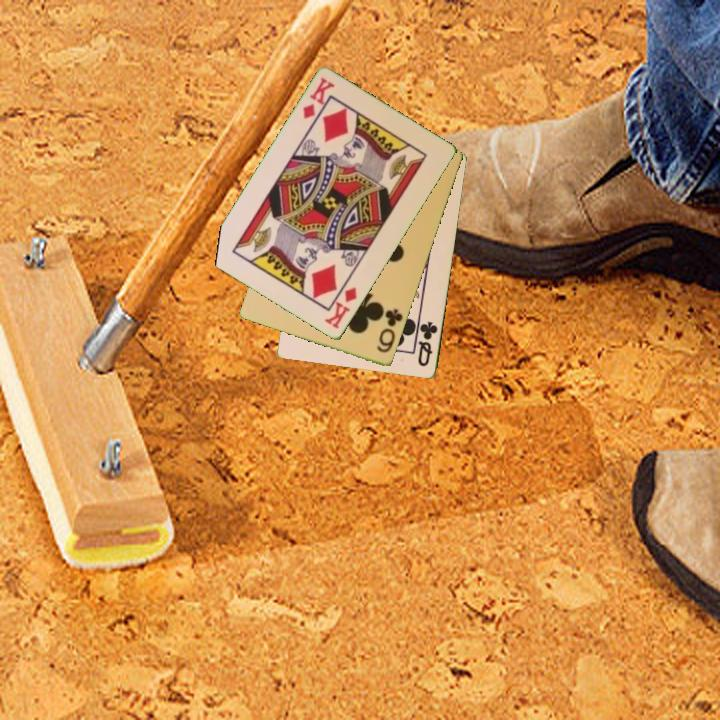6c: (373, 306, 406, 356)
Kd: (321, 283, 360, 332), (299, 74, 338, 122)
Qc: (415, 318, 441, 370)
